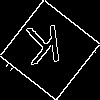K: (25, 25, 64, 74)
